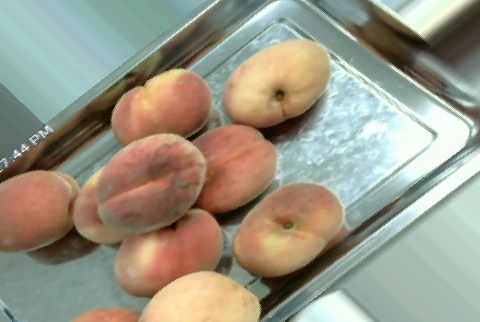Peach: (96, 133, 206, 234), (233, 182, 344, 276), (222, 39, 329, 126), (114, 211, 222, 297), (186, 124, 277, 215), (110, 68, 211, 145), (0, 166, 76, 253), (136, 271, 258, 322)
